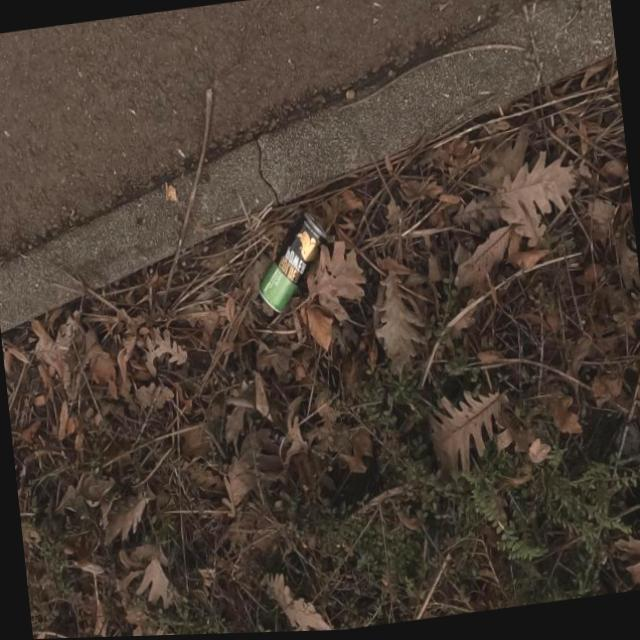Can-Metal: (248, 209, 334, 316)
